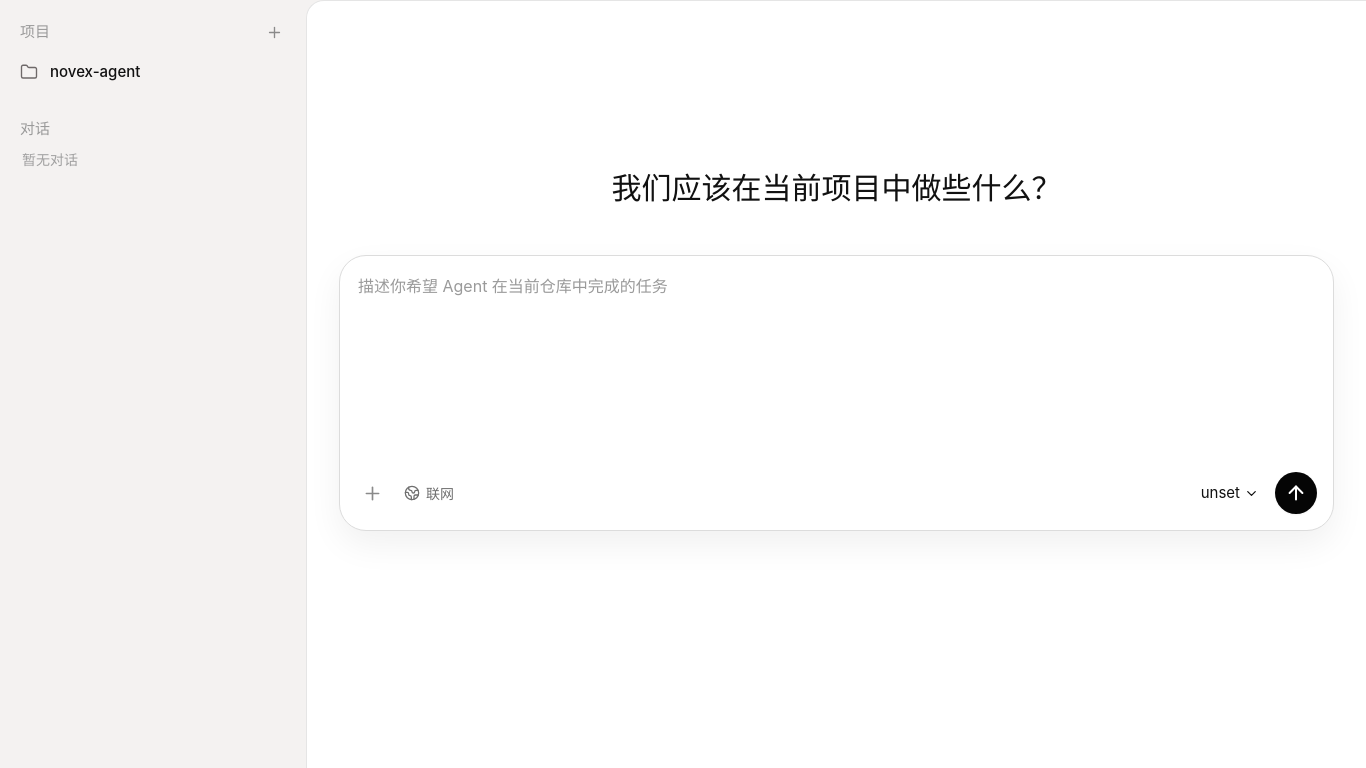
Test: Codex app POC page › renders readable run evidence from raw events
Type "Hello" into the text box named "任务输入" at (836, 364), box [356,272,1317,454]
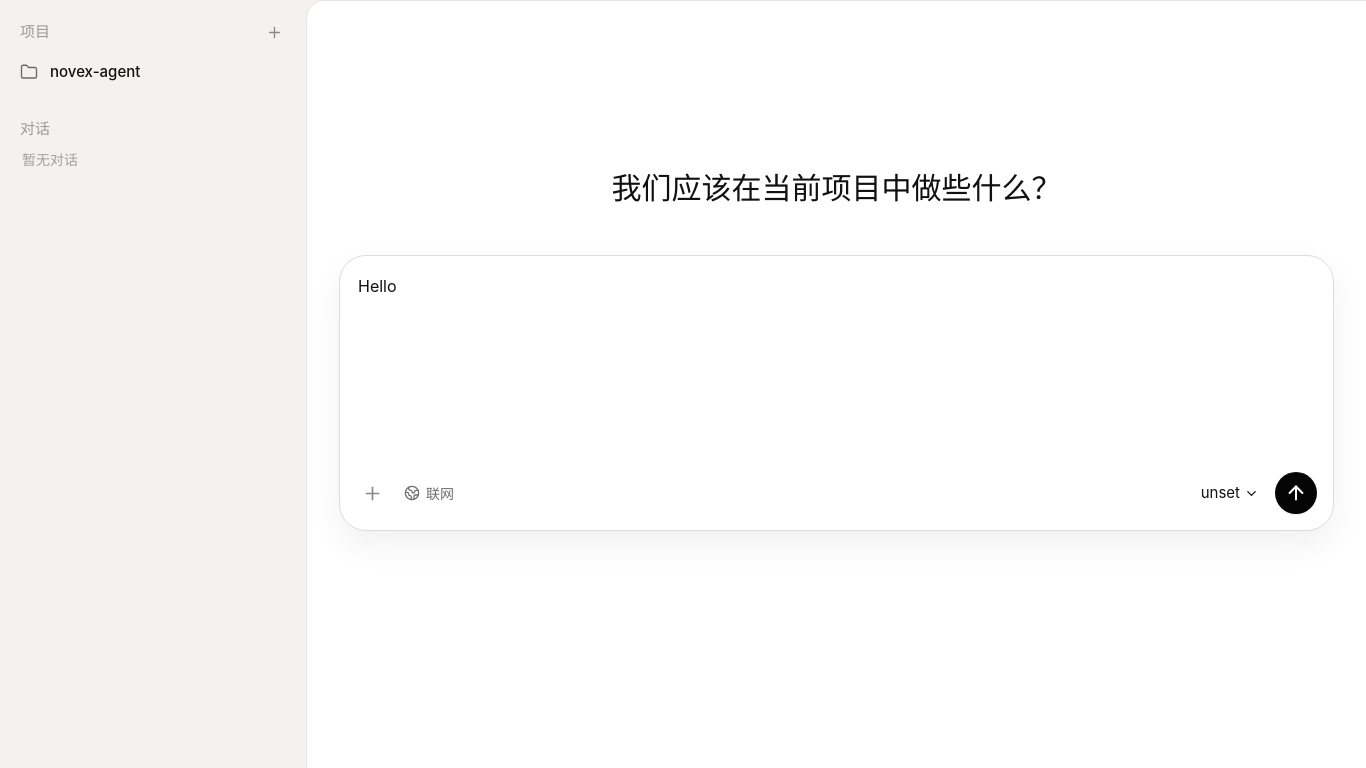
Click the button named "发送" at (1296, 494), box [1275,472,1317,514]
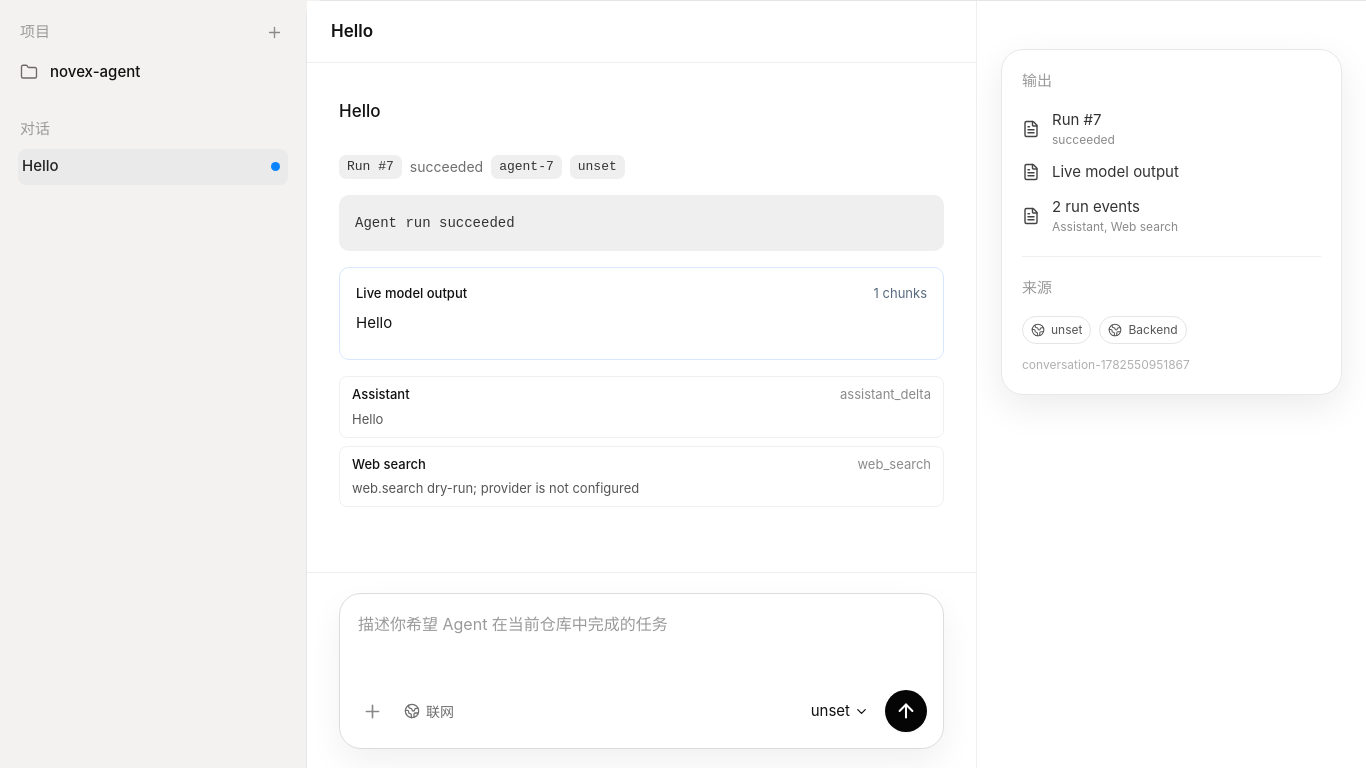
Expected: the text "Assistant" is shown, [352,385,410,404]
Expected: the text "Web search" is shown, [352,454,426,474]
Expected: the text "web.search dry-run; provider is not configured" is shown, [352,480,639,496]
